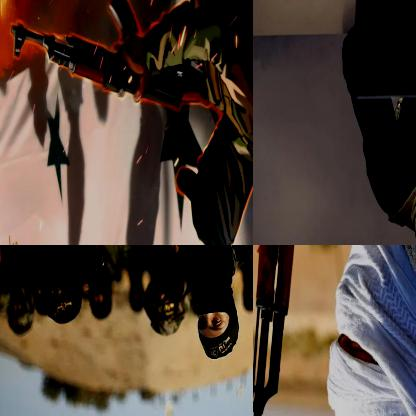rifle: (8, 0, 213, 117), (253, 245, 315, 415)
